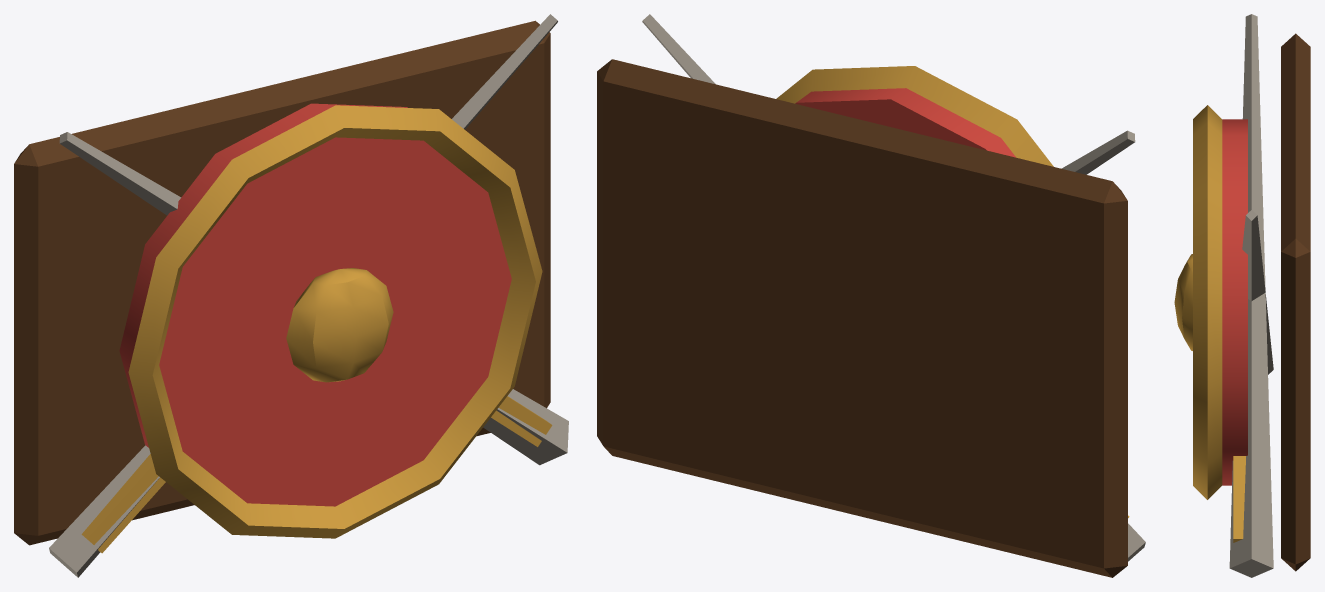
Rendered from PR_Decor_Kalkan.fbx.
3 views of the same model, side by side, from view 1: azimuth 30°, elevation 25°; view 2: azimuth 150°, elevation 25°; view 3: azimuth 270°, elevation 25° (orthographic). The views are drawn at different scales.
Visible parts, largest first — view 1: PR_Decor_Kalkan; view 2: PR_Decor_Kalkan; view 3: PR_Decor_Kalkan.
Part boxes in pixels (left/top/right/bottom): PR_Decor_Kalkan: left=14, top=14, right=568, bottom=577; PR_Decor_Kalkan: left=597, top=14, right=1145, bottom=577; PR_Decor_Kalkan: left=1174, top=14, right=1310, bottom=577.
Size of the model in its own units: 0.7 by 0.5593 by 0.185.
1 material, 1 textured.
